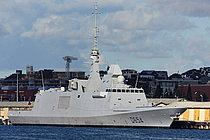MIL_Ship: (7, 54, 188, 128)
